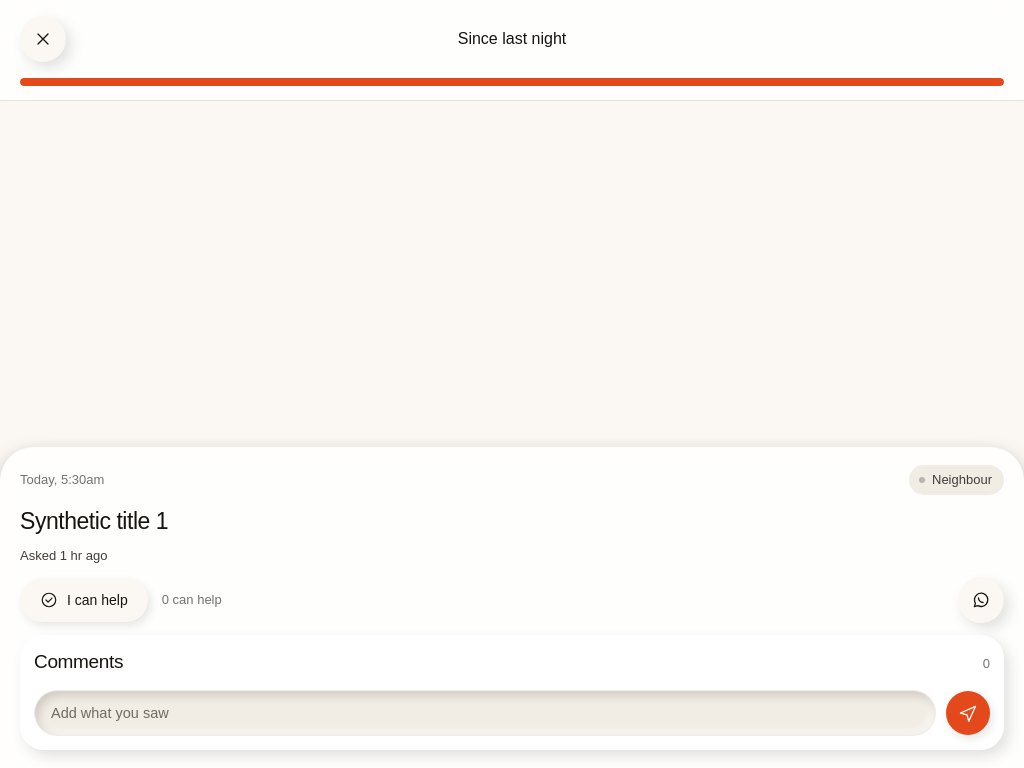
Scenario: Detail comments › posting sends the text, clears the field and says it waits for review
expect the button named "Send" is disabled: met, box x1=946 y1=691 x2=990 y2=735
In the field with placeholder "Add what you saw": (485, 713) x1=34 y1=690 x2=936 y2=736, type "Seen it at 8 am too"
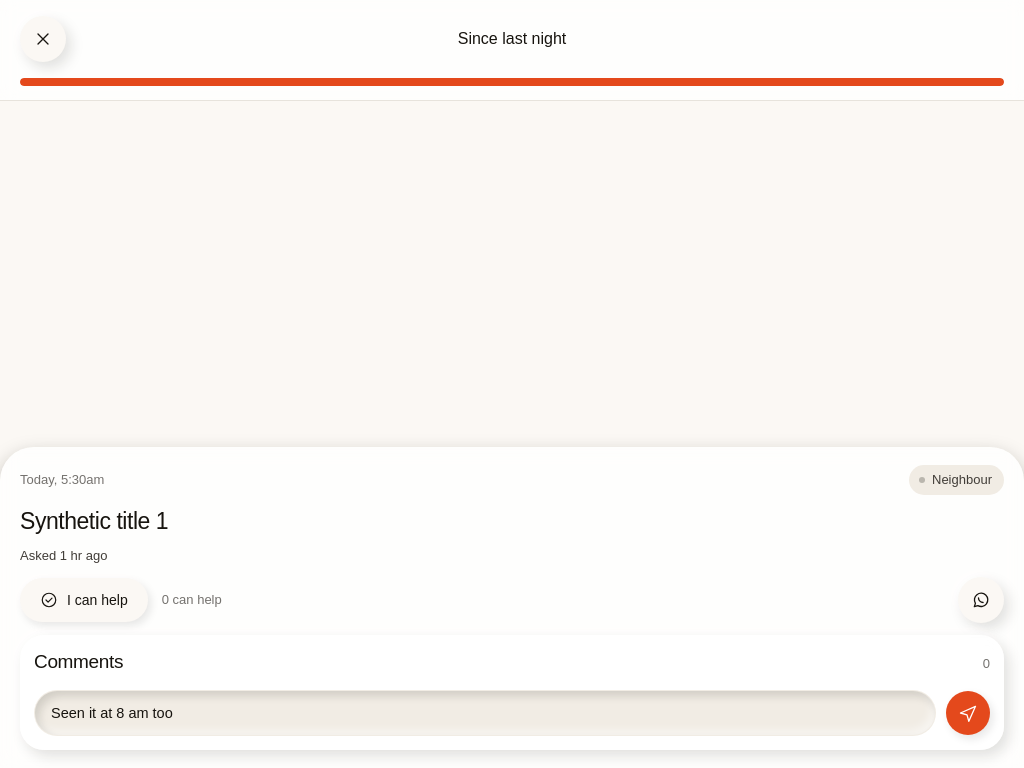
Click the button named "Send": (968, 713) x1=946 y1=691 x2=990 y2=735
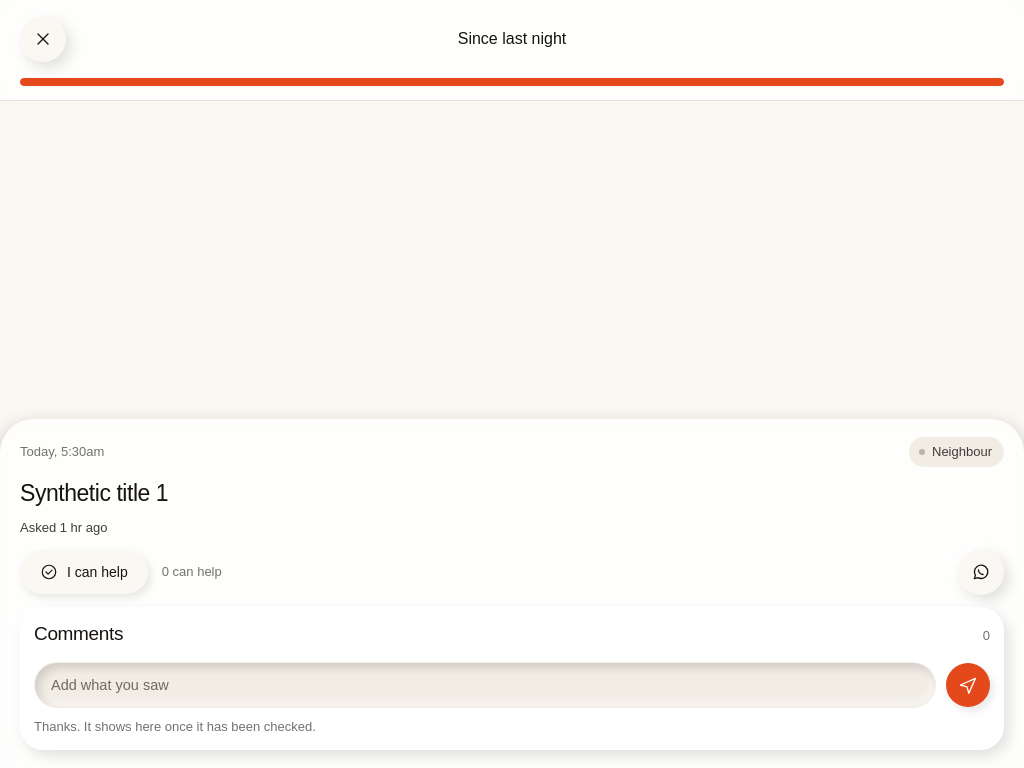
expect the field with placeholder "Add what you saw" is empty: met, box x1=34 y1=662 x2=936 y2=708
expect the message shows "once it has been checked": met, box x1=34 y1=719 x2=316 y2=734
